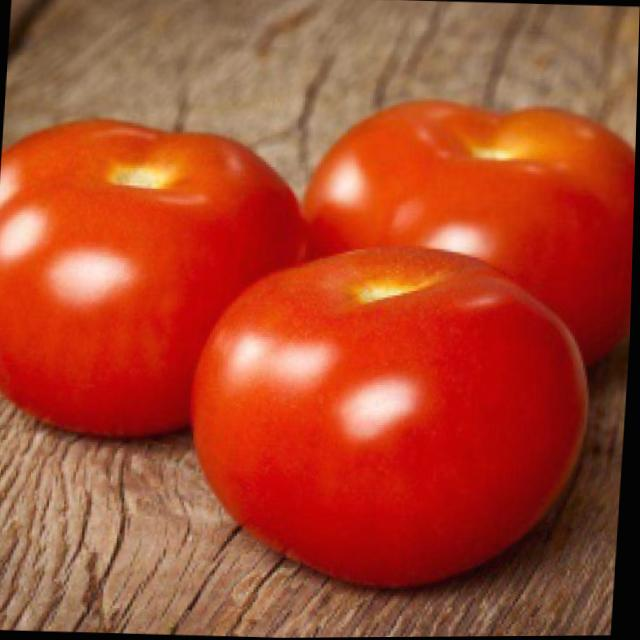tomato: (184, 237, 601, 599), (0, 114, 316, 447), (294, 95, 638, 371)
